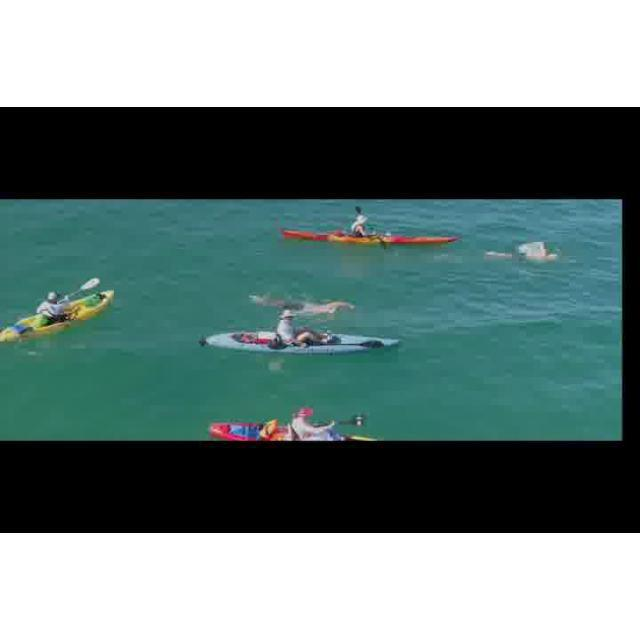human: (255, 291, 358, 320)
